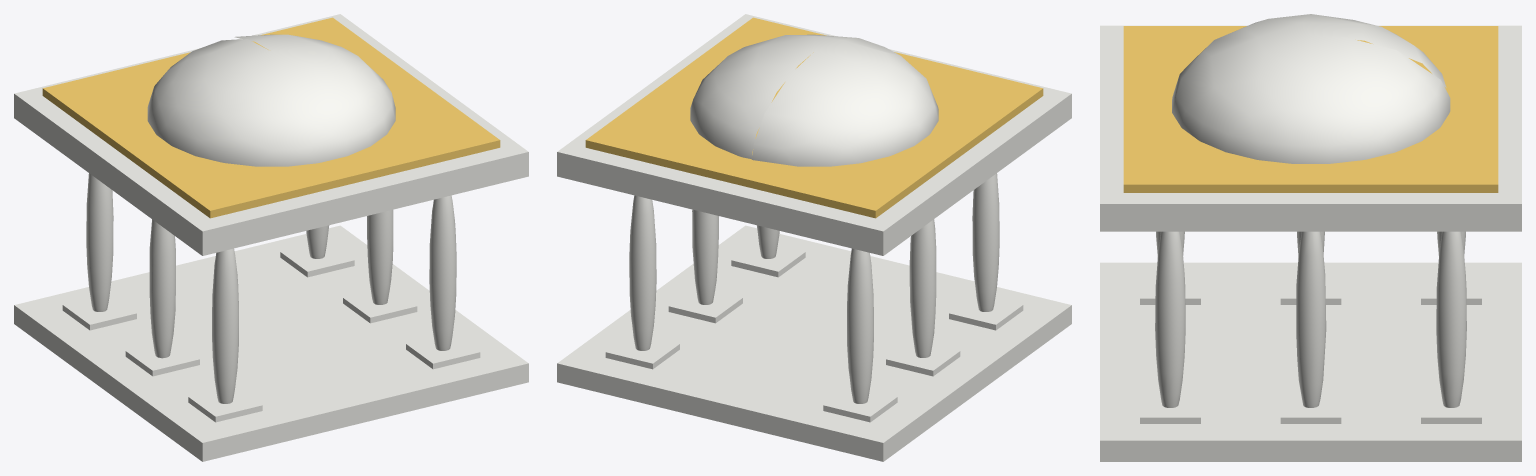
File: sp_temple.glb
3 renders of one model, left to right at view 1: azimuth 30°, elevation 25°; view 2: azimuth 150°, elevation 25°; view 3: azimuth 270°, elevation 25°, orthographic. The views are drawn at different scales.
Bounding box in the file's own units: 9 × 7.95 × 9.
